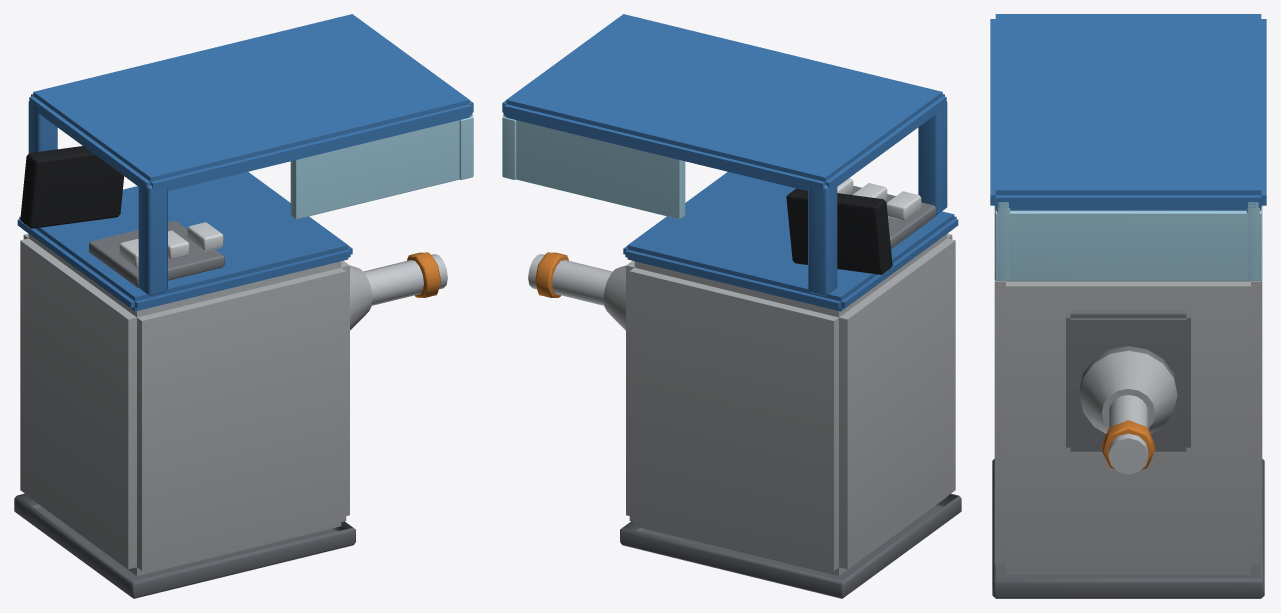
Rendered from SM_WheelBalancer_01.glb.
3 views of the same model, side by side, from view 1: azimuth 30°, elevation 25°; view 2: azimuth 150°, elevation 25°; view 3: azimuth 270°, elevation 25° (orthographic). The views are drawn at different scales.
Visible parts, largest first — view 1: SM_WheelBalancer_01; view 2: SM_WheelBalancer_01; view 3: SM_WheelBalancer_01.
Boxes of the visible parts, box(x1,y1,x2,y2) form: SM_WheelBalancer_01: box(14, 14, 473, 598); SM_WheelBalancer_01: box(502, 14, 961, 598); SM_WheelBalancer_01: box(990, 14, 1266, 598).
Bounding box in the file's own units: 1.12 × 1.17 × 0.62.
Materials: 1 (1 with a texture image).
